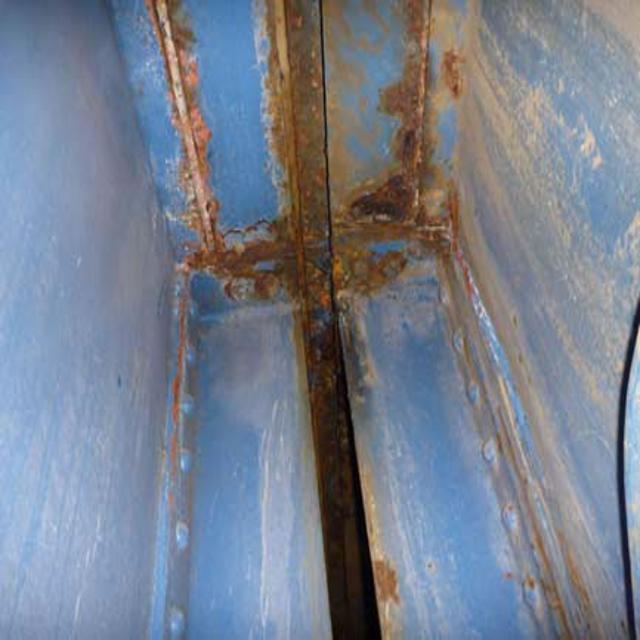corrosion: (135, 5, 612, 640)
